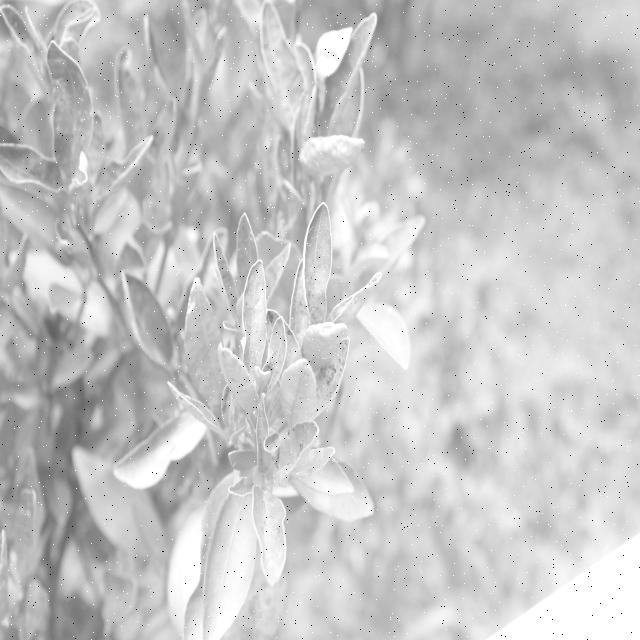canker: (318, 346, 347, 403), (260, 498, 283, 562), (247, 294, 264, 376), (310, 258, 328, 319), (264, 349, 286, 389), (272, 248, 290, 282), (292, 427, 310, 456), (267, 311, 276, 332), (276, 449, 286, 467), (284, 326, 294, 340)
